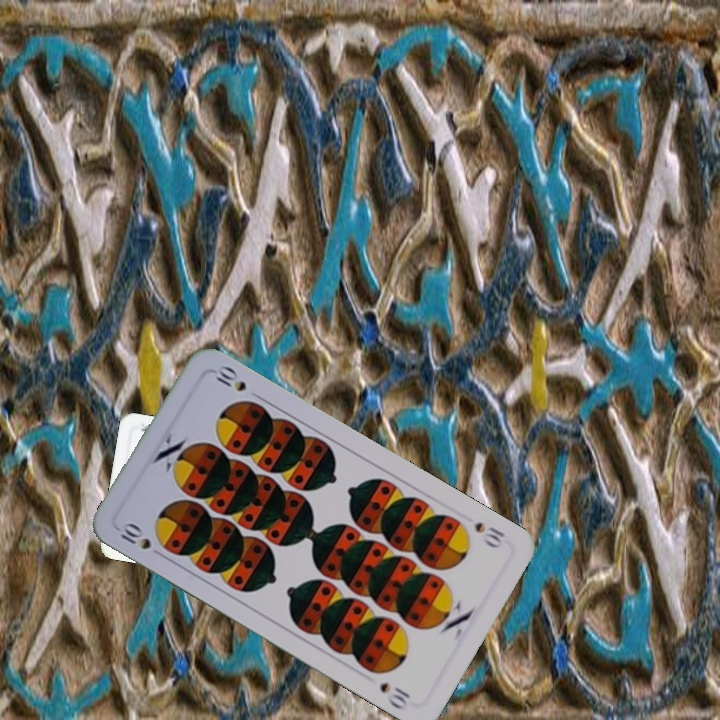S10: (113, 518, 167, 560), (470, 518, 508, 551)
